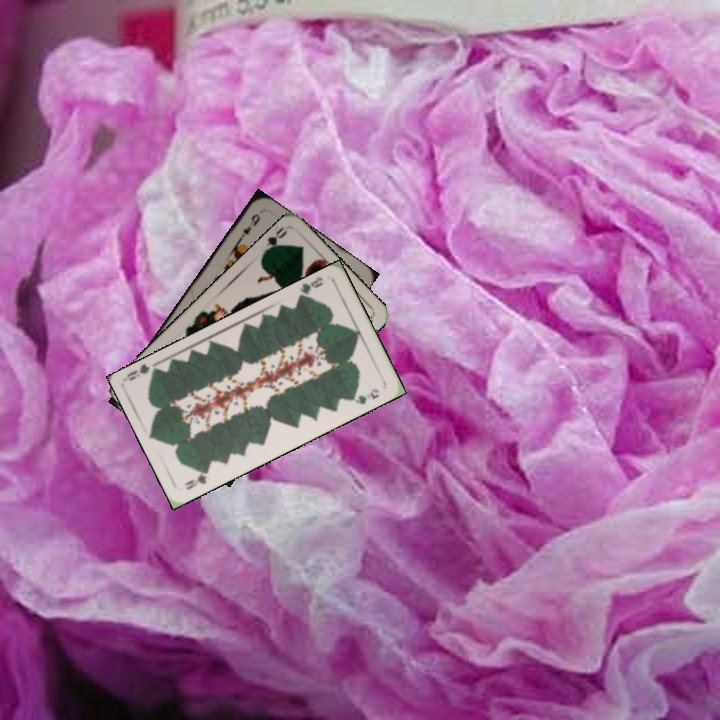E9: (235, 210, 263, 244)
G9: (181, 464, 212, 493), (294, 273, 325, 301)
GO: (259, 223, 290, 258)
